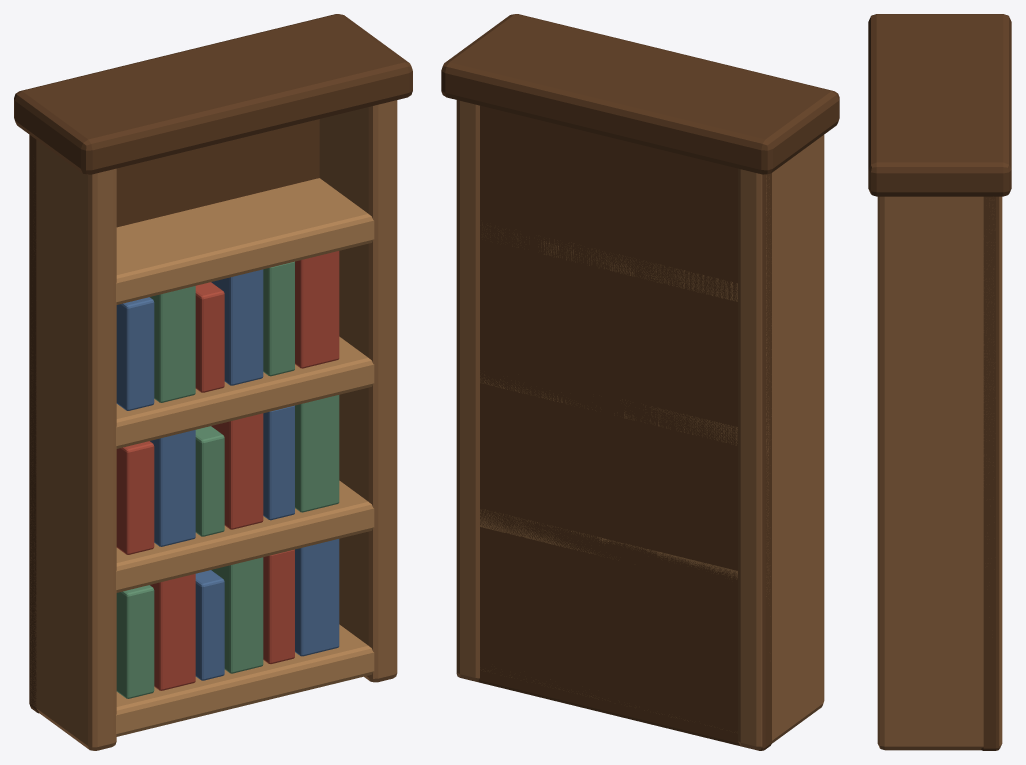
Rendered from bookshelf_1p1x2p1.glb.
3 views of the same model, side by side, from view 1: azimuth 30°, elevation 25°; view 2: azimuth 150°, elevation 25°; view 3: azimuth 270°, elevation 25° (orthographic). The views are drawn at different scales.
Parts seen in each view (by area): view 1: bookshelf_left, bookshelf_crown, bookshelf_right, bookshelf_shelf_04, bookshelf_back, bookshelf_shelf_01, bookshelf_shelf_02, bookshelf_shelf_03, bookshelf_book_2_06, bookshelf_book_3_06, bookshelf_book_1_06, bookshelf_book_2_02 (+14 smaller); view 2: bookshelf_back, bookshelf_left, bookshelf_crown, bookshelf_right, bookshelf_shelf_02, bookshelf_shelf_04, bookshelf_shelf_03; view 3: bookshelf_right, bookshelf_crown, bookshelf_back.
Part boxes in pixels (x1,y1,x2,y2): bookshelf_left: (30,140,116,750); bookshelf_crown: (14,14,412,174); bookshelf_right: (319,100,397,682); bookshelf_shelf_04: (116,178,374,304); bookshelf_back: (29,119,319,713); bookshelf_shelf_01: (116,624,374,736); bookshelf_shelf_02: (116,480,374,592); bookshelf_shelf_03: (116,336,374,448); bookshelf_book_2_06: (295,395,339,512); bookshelf_book_3_06: (295,251,339,368); bookshelf_book_1_06: (295,539,339,656); bookshelf_book_2_02: (150,430,195,546); bookshelf_back: (456,105,772,750); bookshelf_left: (738,135,824,750); bookshelf_crown: (441,14,839,174); bookshelf_right: (456,100,479,681); bookshelf_shelf_02: (480,509,737,579); bookshelf_shelf_04: (482,224,737,301); bookshelf_shelf_03: (480,374,737,445); bookshelf_right: (877,196,1002,750); bookshelf_crown: (868,14,1011,196); bookshelf_back: (981,196,999,750).
Bounding box in the file's own units: 1.18 × 2.1 × 0.46.
